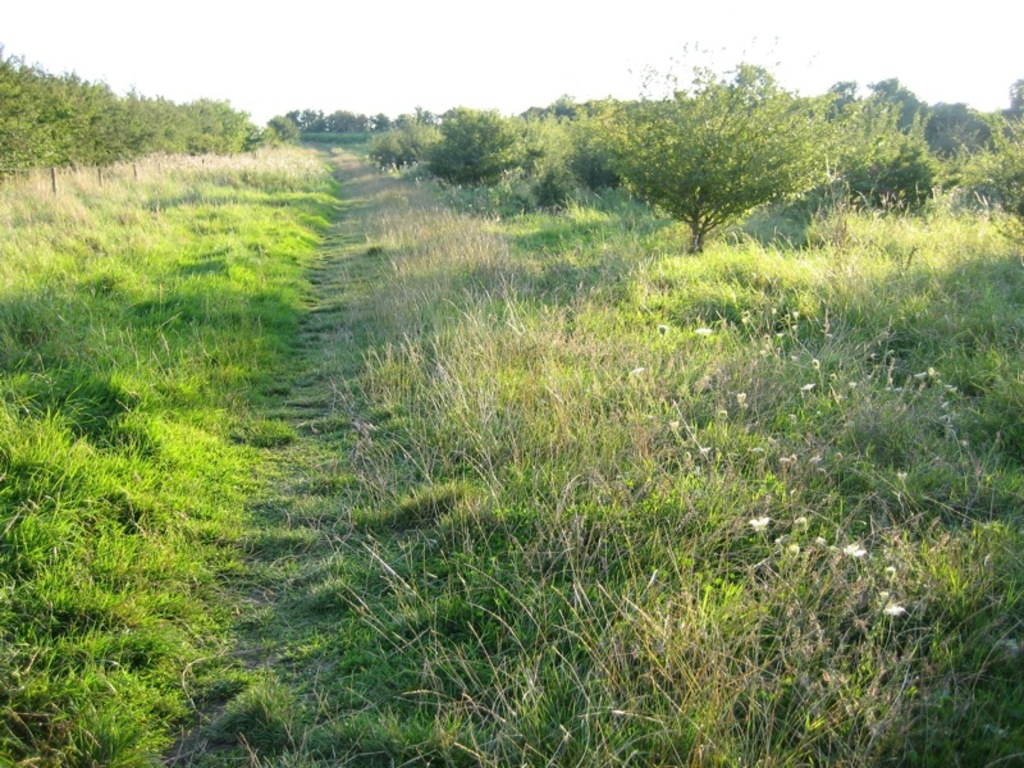Tree: (368, 38, 1024, 255), (0, 43, 300, 193), (285, 107, 435, 136)
